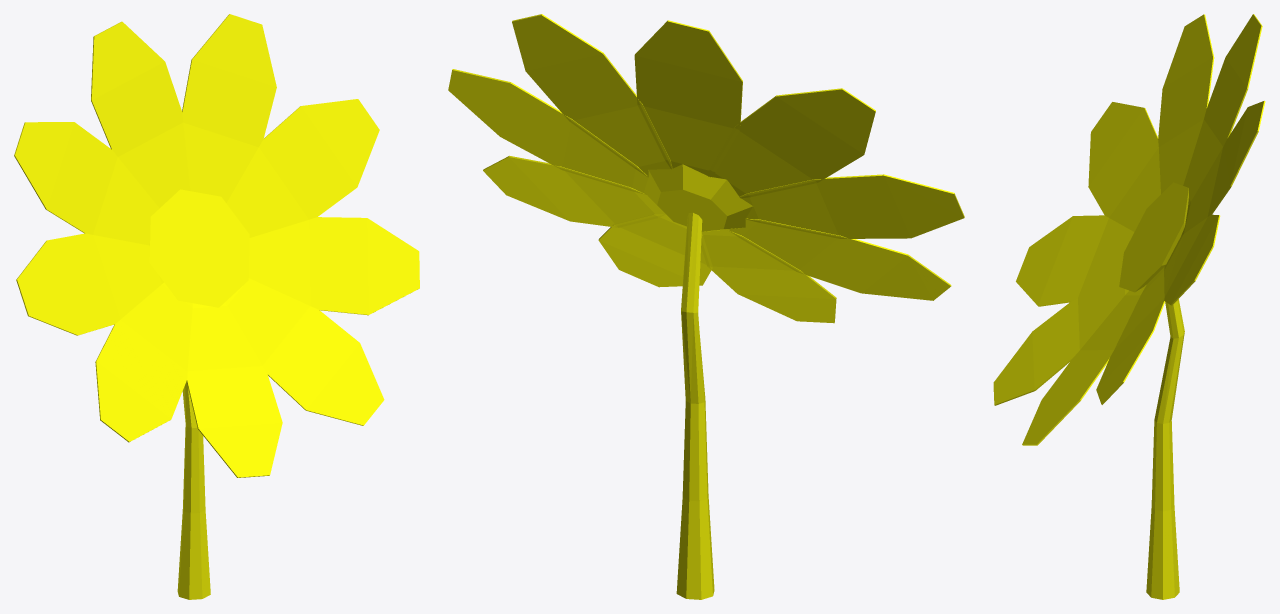
File: flower02_yellow.glb
3 views of the same model, side by side, from view 1: azimuth 30°, elevation 25°; view 2: azimuth 150°, elevation 25°; view 3: azimuth 270°, elevation 25° (orthographic). The views are drawn at different scales.
Parts seen in each view (by area): view 1: flower02_yellow; view 2: flower02_yellow; view 3: flower02_yellow.
Boxes of the visible parts, x1,y1,x2,y2 form: flower02_yellow: (14, 14, 419, 599); flower02_yellow: (448, 14, 964, 599); flower02_yellow: (993, 14, 1265, 599).
Size of the model in its own units: 1.53 by 1.95 by 0.8648.
Materials: 1 (1 with a texture image).
